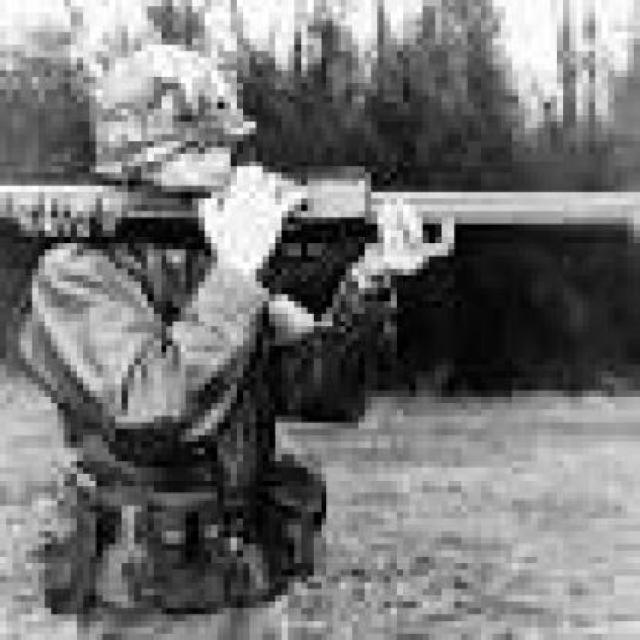weapon: (8, 154, 640, 277)
